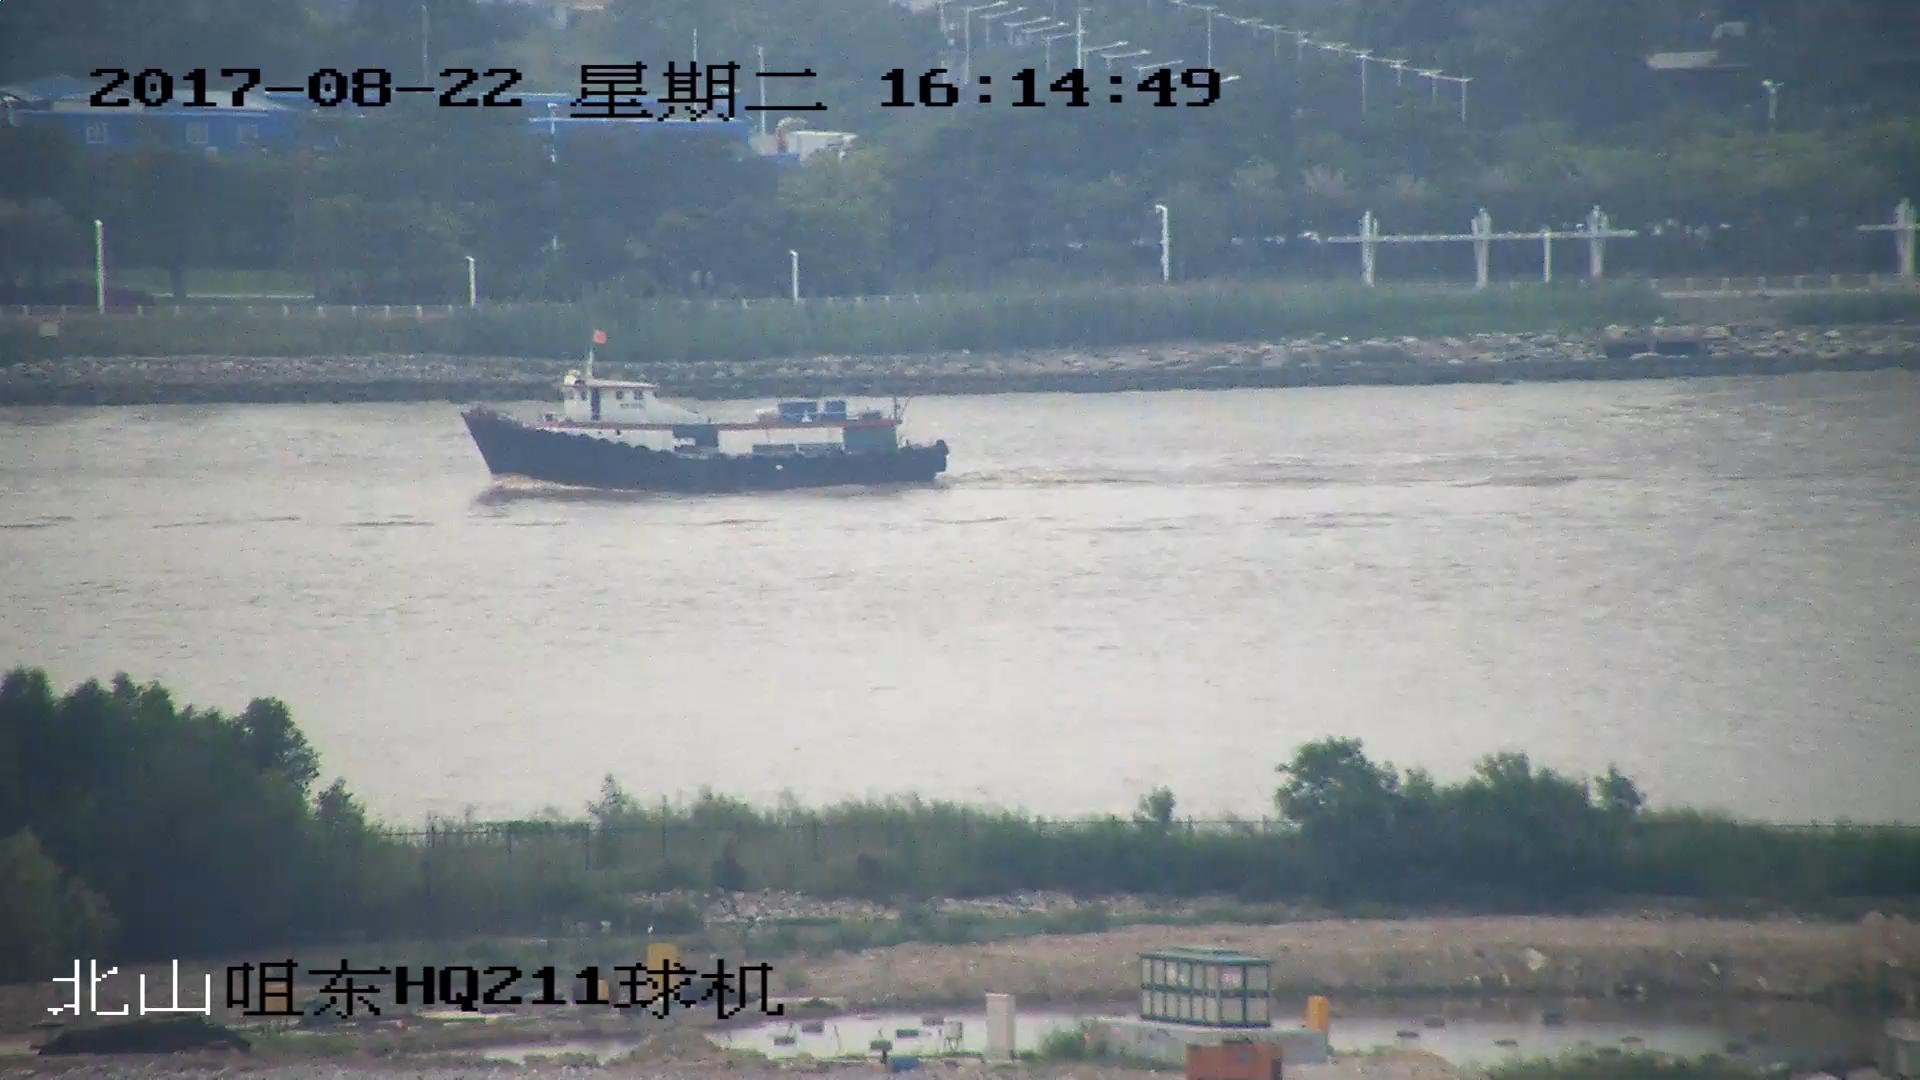fishing boat: (463, 327, 954, 493)
